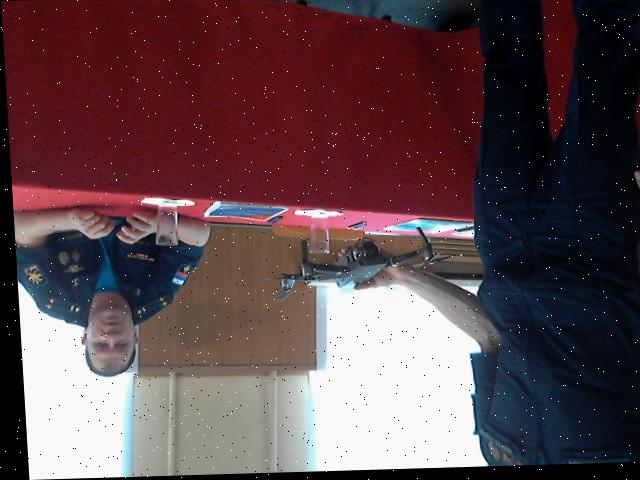drone: (258, 228, 476, 315)
